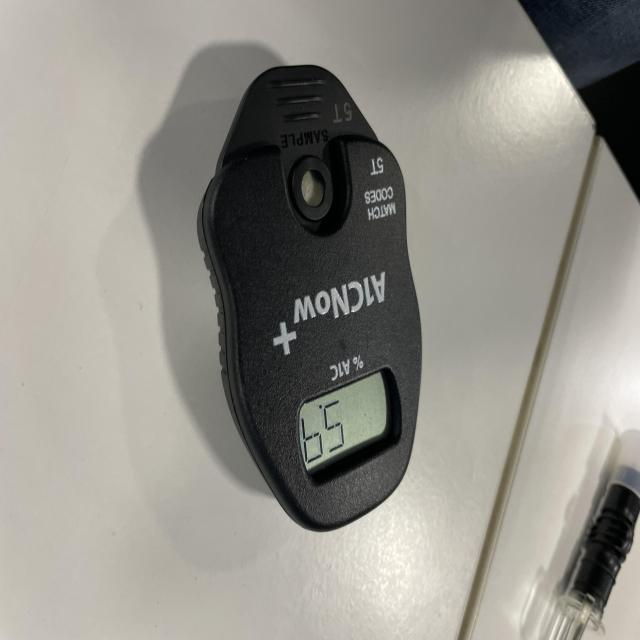hba1c: (195, 65, 423, 535)
